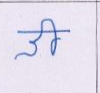i_matra: (43, 18, 60, 56)
